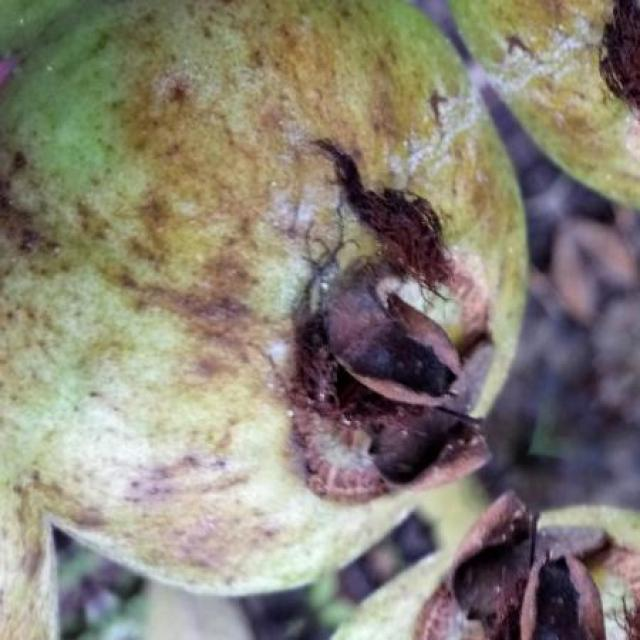Styler and Root: (452, 0, 640, 207)
